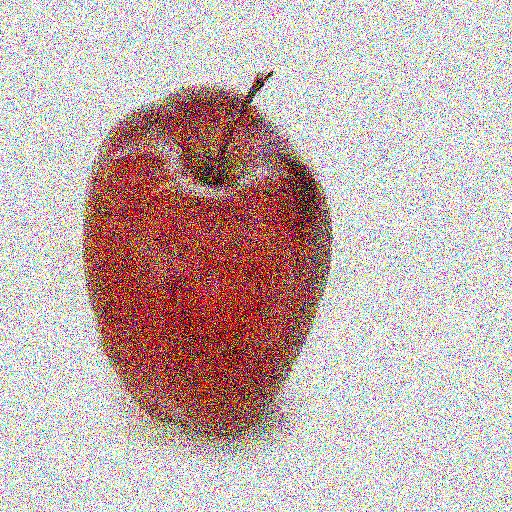fruit: (226, 124, 427, 452)
